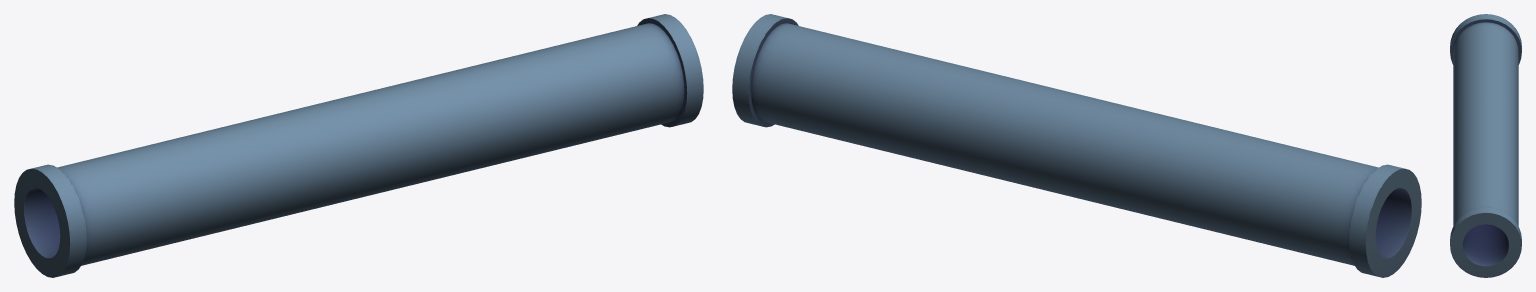
File: Pipe1.glb
3 views of the same model, side by side, from view 1: azimuth 30°, elevation 25°; view 2: azimuth 150°, elevation 25°; view 3: azimuth 270°, elevation 25° (orthographic). The views are drawn at different scales.
Visible parts, largest first — view 1: Pipe1; view 2: Pipe1; view 3: Pipe1.
Part boxes in pixels (x1=…): Pipe1: x1=14, y1=14, x2=703, y2=277; Pipe1: x1=732, y1=14, x2=1421, y2=277; Pipe1: x1=1450, y1=14, x2=1521, y2=277.
Size of the model in its own units: 5.28 by 0.8077 by 0.8077.
Materials: 1 (1 with a texture image).
